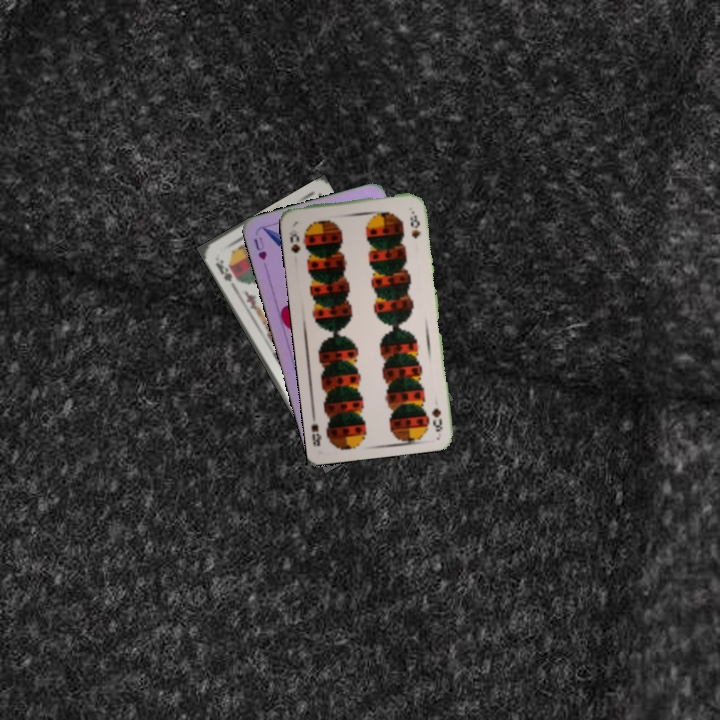HU: (250, 233, 269, 263)
S8: (428, 404, 445, 434), (285, 228, 303, 256)
SK: (211, 256, 241, 285)
